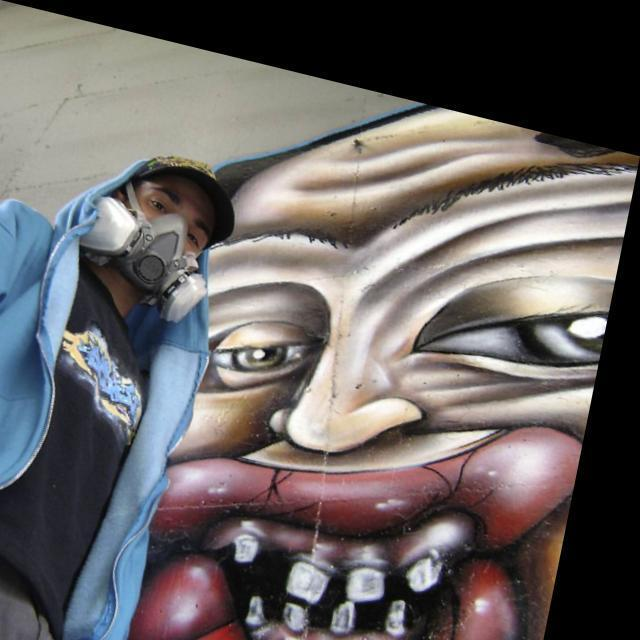-: (138, 46, 640, 640)
